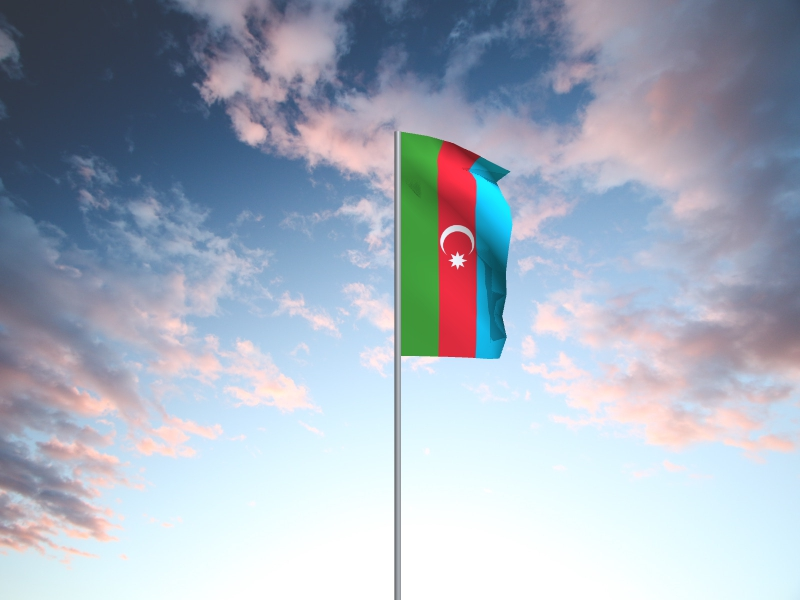az: (401, 133, 514, 361)
